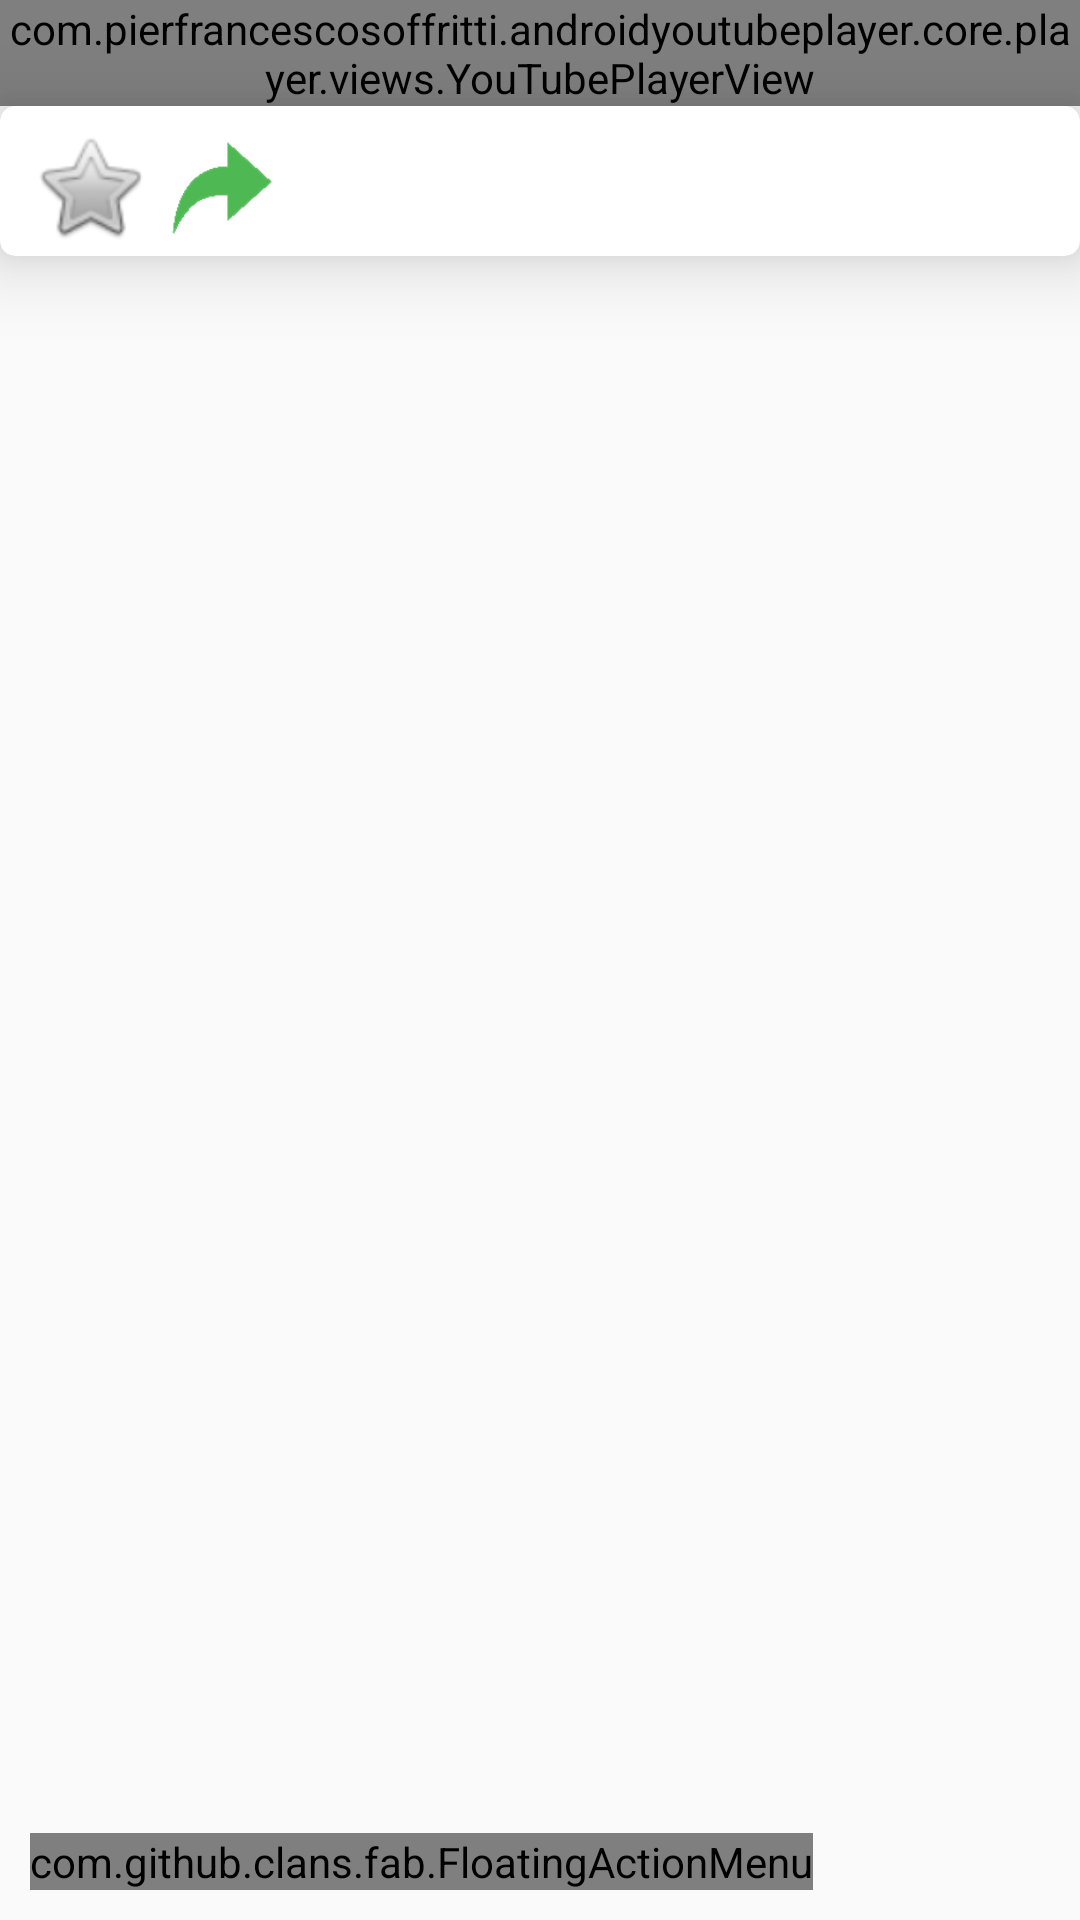

Named icons in this screenshot (1080w x 1920h) and their centers, [x,y]:
share video: [222,188]
